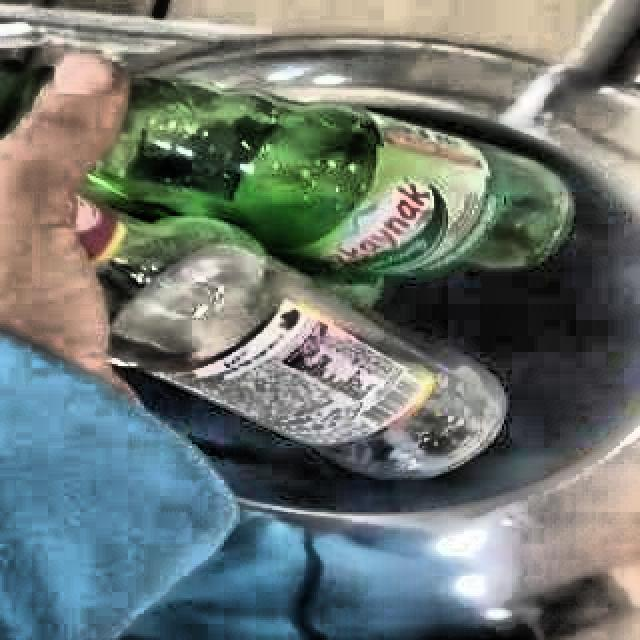glass: (75, 78, 573, 480)
